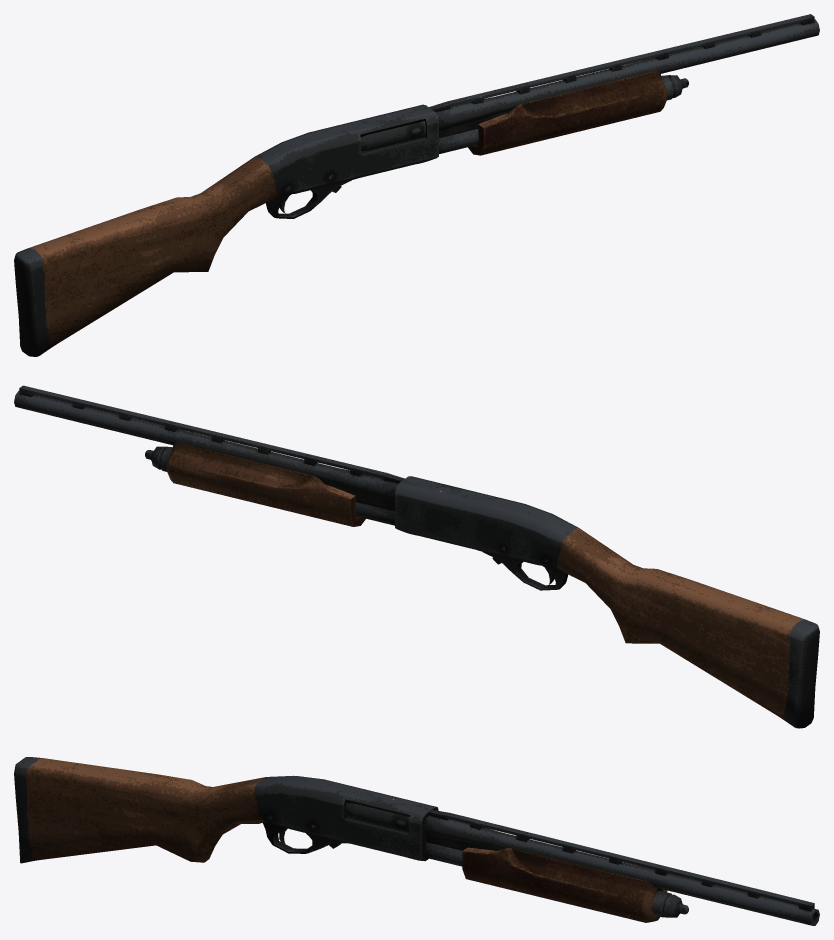
Rendered from tp_shotgun.glb.
The picture shows the model from 3 angles, top to bottom: view 1: azimuth 30°, elevation 25°; view 2: azimuth 150°, elevation 25°; view 3: azimuth 330°, elevation 25°; orthographic projection.
Visible parts, largest first — view 1: Main_Mesh, Forearm_Mesh, LoadingPort_Mesh; view 2: Main_Mesh, Forearm_Mesh; view 3: Main_Mesh, Forearm_Mesh, LoadingPort_Mesh.
Part boxes in pixels (<box>): Main_Mesh: <box>14,14,819,356</box>; Forearm_Mesh: <box>468,70,667,155</box>; LoadingPort_Mesh: <box>360,121,426,151</box>; Main_Mesh: <box>14,385,819,728</box>; Forearm_Mesh: <box>166,442,365,526</box>; Main_Mesh: <box>14,757,819,925</box>; Forearm_Mesh: <box>462,847,667,922</box>; LoadingPort_Mesh: <box>345,802,410,832</box>.
Size of the model in its own units: 94.25 by 16.84 by 4.58.
1 material, 1 textured.
